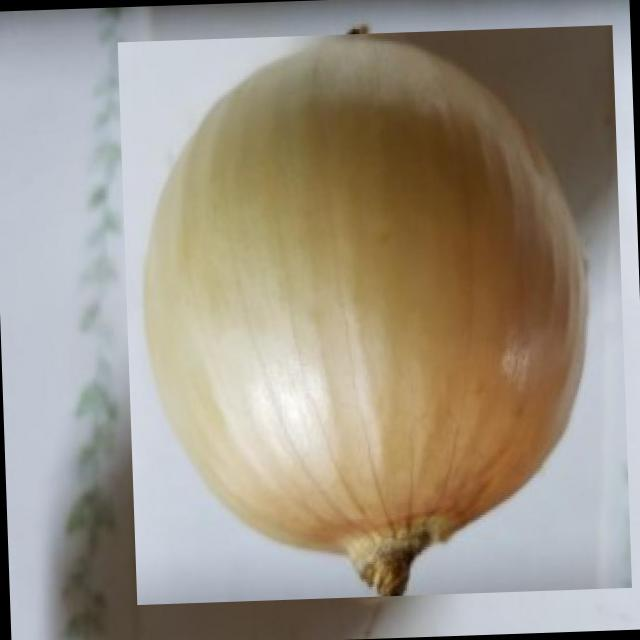Onion: (118, 23, 632, 604)
